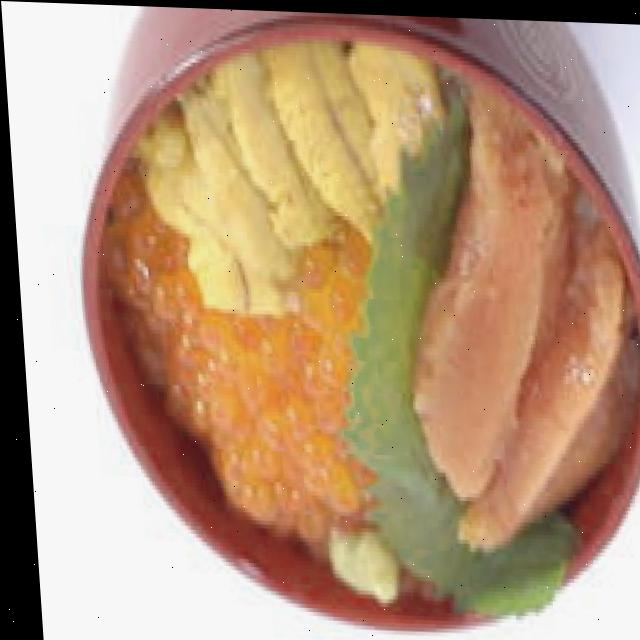刺身生食: (61, 2, 640, 640)
